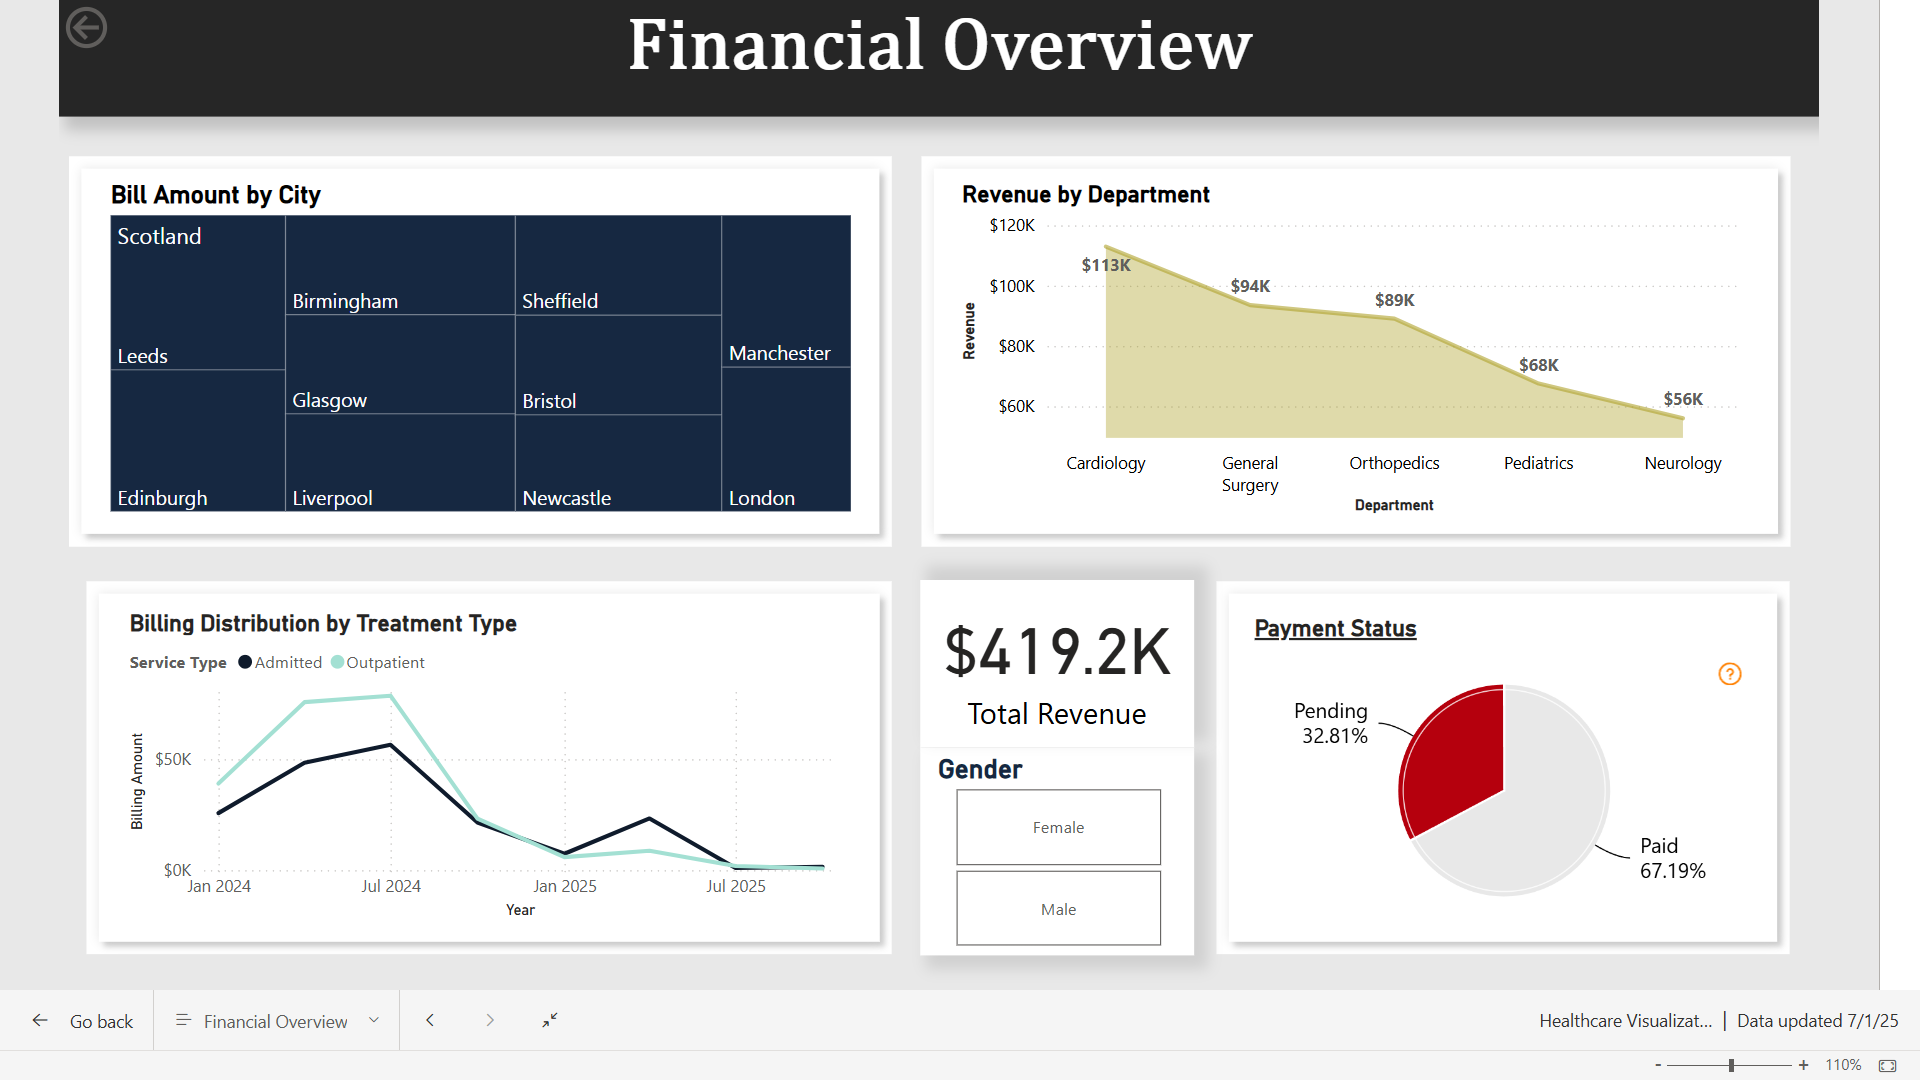

The dashboard page shown, as its layout file describes it:
{"tool":"powerbi","page":{"name":"Financial Overview","canvas":[1280,720],"ordinal":2},"visuals":[{"type":"textbox","box":[0,0,1280.4,84.5],"z":0},{"type":"shape","box":[842.2,422.9,416.7,271.2],"z":1000},{"type":"ZoomChartsDrillDownPieProC062D62DA5CE45ECB95B7B1D0E5DA558","title":"Payment Status","fields":{"Category":["Healthcare Dataset.Payment Status","Healthcare Dataset.Service Type"],"Values":["CountNonNull(Healthcare Dataset.Payment Status)"]},"box":[864.6,446.6,373.2,236.4],"z":2000},{"type":"shape","box":[627,113.2,631.9,283.6],"z":3000},{"type":"areaChart","title":"Revenue by Department","fields":{"Category":["Healthcare Dataset.Department"],"Y":["Sum(Healthcare Dataset.Bill Amount)"]},"box":[651.8,130.6,583.4,247.5],"z":4000},{"type":"actionButton","box":[0,0,100,40],"z":5000},{"type":"shape","box":[19.9,422.9,585.9,271.2],"z":6000},{"type":"lineChart","title":"Billing Distribution by Treatment Type","fields":{"Y":["Sum(Healthcare Dataset.Bill Amount)"],"Category":["Healthcare Dataset.Date of Visit.Variation.Date Hierarchy.Year","Healthcare Dataset.Date of Visit.Variation.Date Hierarchy.Quarter"],"Series":["Healthcare Dataset.Service Type"]},"box":[46,442.8,536.1,230.1],"z":7000},{"type":"slicer","fields":{"Values":["Healthcare Dataset.Gender"]},"box":[626.7,543.3,199.5,151],"z":8000},{"type":"card","fields":{"Values":["Sum(Healthcare Dataset.Bill Amount)"]},"box":[626.7,421.5,199.5,121.7],"z":9000},{"type":"shape","box":[7.5,113.2,598.3,283.6],"z":10000},{"type":"treemap","title":"Bill Amount by City","fields":{"Group":["Healthcare Dataset.State"],"Details":["Healthcare Dataset.City"],"Values":["Sum(Healthcare Dataset.Bill Amount)"]},"box":[32.3,130.6,548.6,246.3],"z":11000}]}

Visuals, with their boxes on the page's 1280x720 design canvas (x1, y1, x2, y2). These are canvas units, not pixel positions in the 1920x1080 screenshot, which may show the page scaled, cropped or inside an application window:
textbox: <region>0, 0, 1280, 84</region>
shape: <region>842, 423, 1259, 694</region>
"Payment Status" ZoomChartsDrillDownPieProC062D62DA5CE45ECB95B7B1D0E5DA558: <region>865, 447, 1238, 683</region>
shape: <region>627, 113, 1259, 397</region>
"Revenue by Department" areaChart: <region>652, 131, 1235, 378</region>
actionButton: <region>0, 0, 100, 40</region>
shape: <region>20, 423, 606, 694</region>
"Billing Distribution by Treatment Type" lineChart: <region>46, 443, 582, 673</region>
slicer - Healthcare Dataset.Gender: <region>627, 543, 826, 694</region>
card - Sum(Healthcare Dataset.Bill Amount): <region>627, 422, 826, 543</region>
shape: <region>8, 113, 606, 397</region>
"Bill Amount by City" treemap: <region>32, 131, 581, 377</region>
